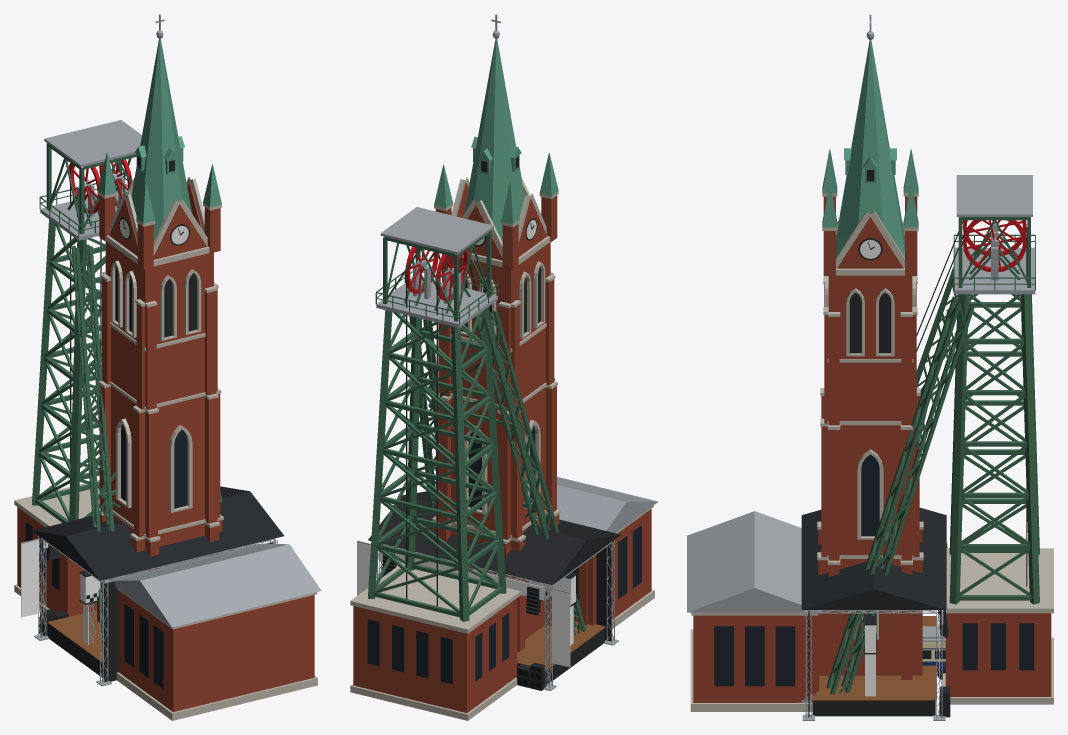
The model's file is town.glb.
3 renders of one model, left to right at view 1: azimuth 30°, elevation 25°; view 2: azimuth 150°, elevation 25°; view 3: azimuth 270°, elevation 25°, orthographic. The views are drawn at different scales.
Parts seen in each view (by area): view 1: Headframe, ChurchSpire, FestivalStage, FestivalArch; view 2: Headframe, ChurchSpire, FestivalStage, FestivalArch; view 3: Headframe, ChurchSpire, FestivalStage, FestivalArch, TrainCab.
Part boxes in pixels (left/top/right/bottom): Headframe: left=14, top=120, right=321, bottom=720; ChurchSpire: left=97, top=14, right=223, bottom=622; FestivalStage: left=21, top=486, right=284, bottom=686; FestivalArch: left=79, top=548, right=238, bottom=644; Headframe: left=350, top=207, right=657, bottom=720; ChurchSpire: left=432, top=14, right=560, bottom=651; FestivalStage: left=357, top=491, right=620, bottom=690; FestivalArch: left=417, top=552, right=576, bottom=645; Headframe: left=687, top=175, right=1053, bottom=711; ChurchSpire: left=817, top=14, right=923, bottom=679; FestivalStage: left=798, top=507, right=950, bottom=720; FestivalArch: left=864, top=610, right=876, bottom=696; TrainCab: left=922, top=626, right=945, bottom=679.
Size of the model in its own units: 21 by 59.34 by 29.8.
